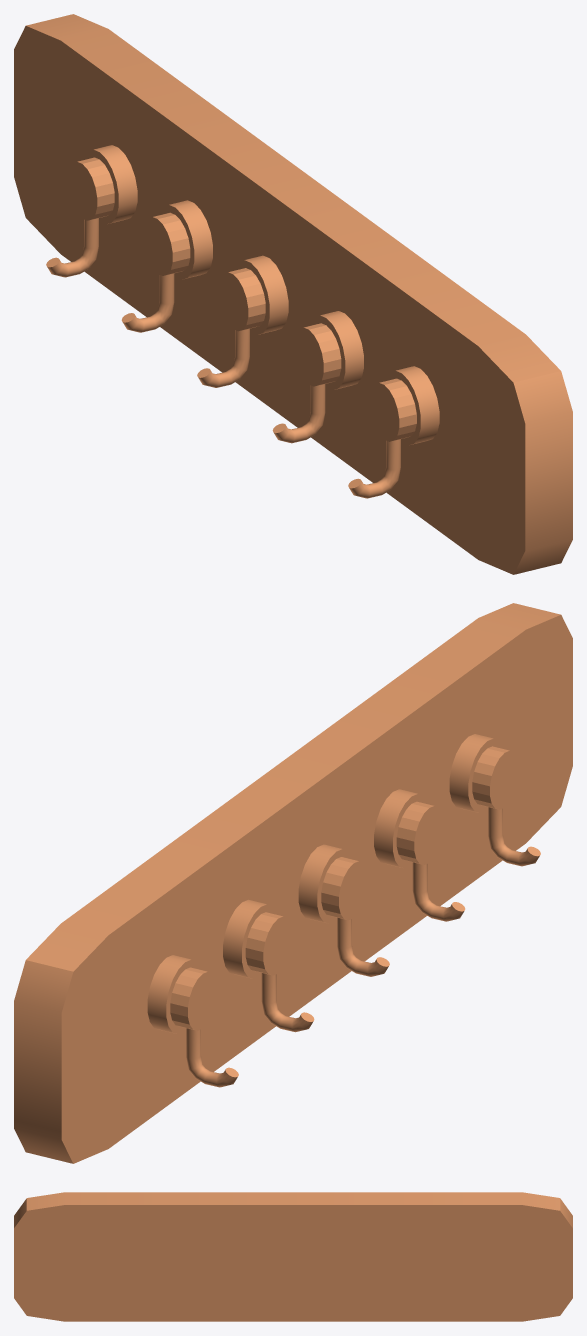
Rendered from guagou.fbx.
3 views of the same model, one above another, from view 1: azimuth 30°, elevation 25°; view 2: azimuth 150°, elevation 25°; view 3: azimuth 270°, elevation 25° (orthographic). The views are drawn at different scales.
Parts seen in each view (by area): view 1: Box029; view 2: Box029; view 3: Box029.
Part boxes in pixels (x1,y1,x2,y2): Box029: [14, 14, 572, 574]; Box029: [14, 603, 572, 1163]; Box029: [14, 1192, 572, 1321].
Size of the model in its own units: 1.12 by 1.92 by 8.34.
